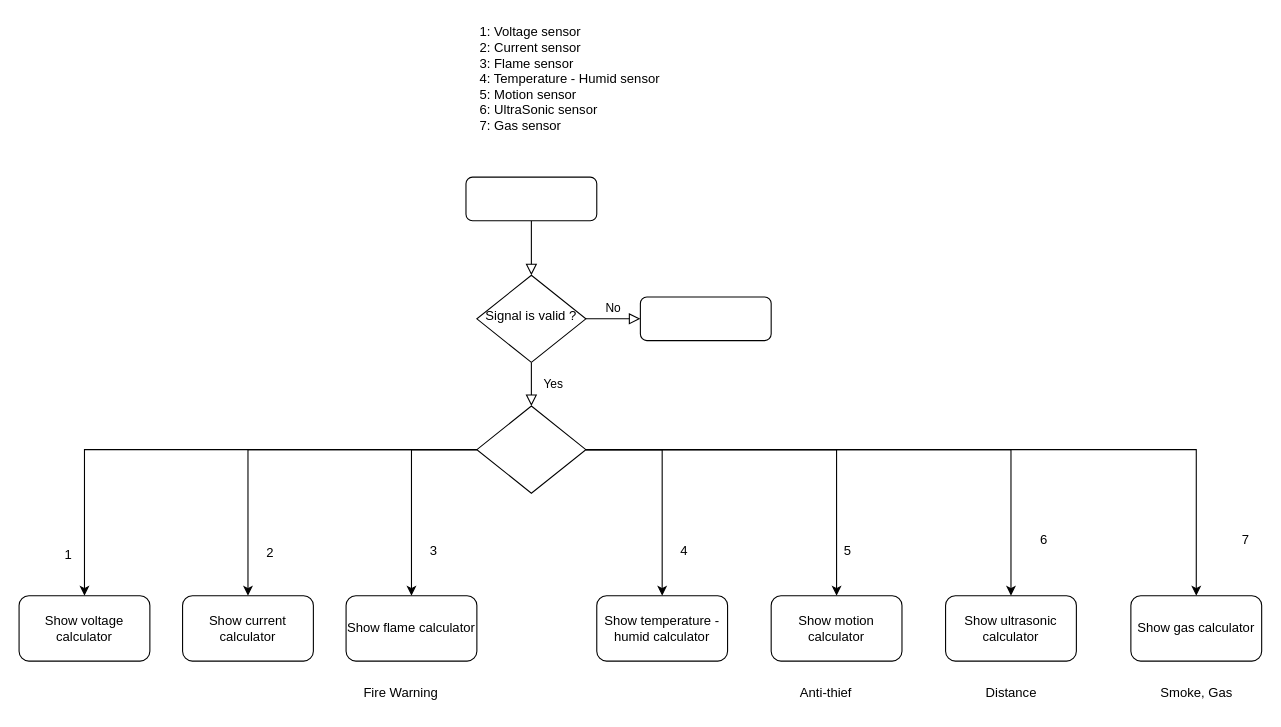
The diagram is 1281 pixels wide and 727 high, and some of its shapes have lost their labels. The box of each missing label's shape, as (x1, y1, x2, y2) in pixels:
get Signal value: (465, 176, 597, 221)
Signal = ?: (476, 405, 586, 493)
Skip: (639, 296, 771, 341)
